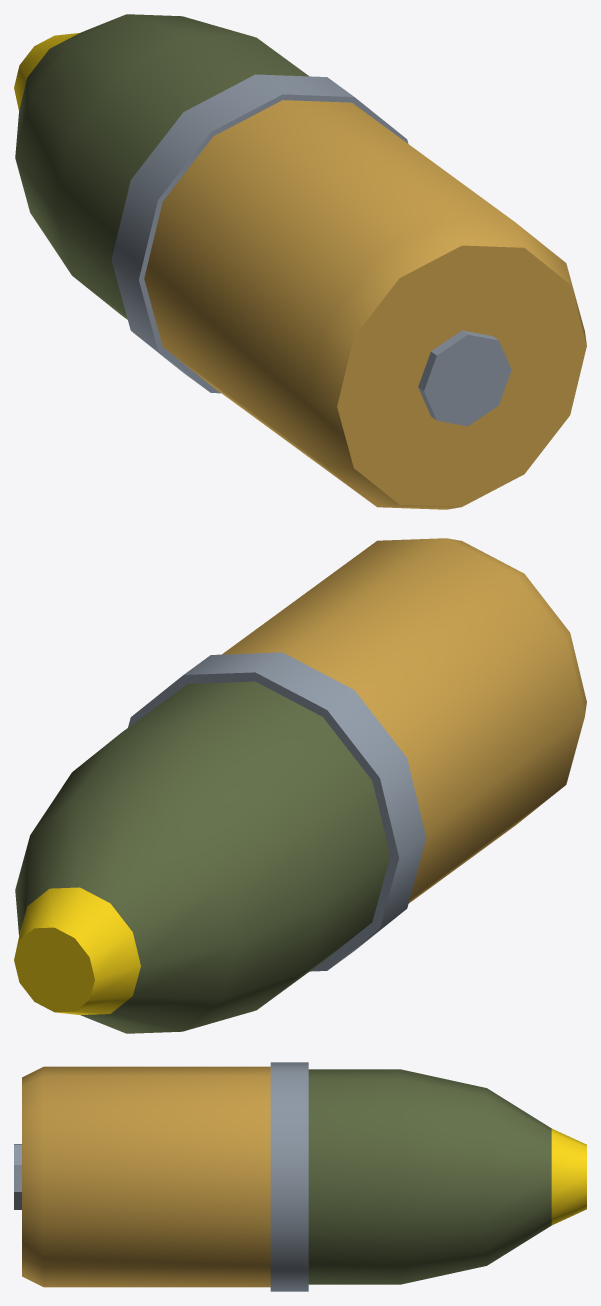
Rendered from grenade_round.glb.
3 renders of one model, top to bottom at view 1: azimuth 30°, elevation 25°; view 2: azimuth 150°, elevation 25°; view 3: azimuth 270°, elevation 25°, orthographic. The views are drawn at different scales.
Visible parts, largest first — view 1: Body; view 2: Body; view 3: Body.
Boxes of the visible parts, box(x1,y1,x2,y2) form: Body: box(14, 14, 586, 509); Body: box(14, 538, 586, 1033); Body: box(14, 1062, 586, 1291).
Bounding box in the file's own units: 0.0426 × 0.0426 × 0.106.
